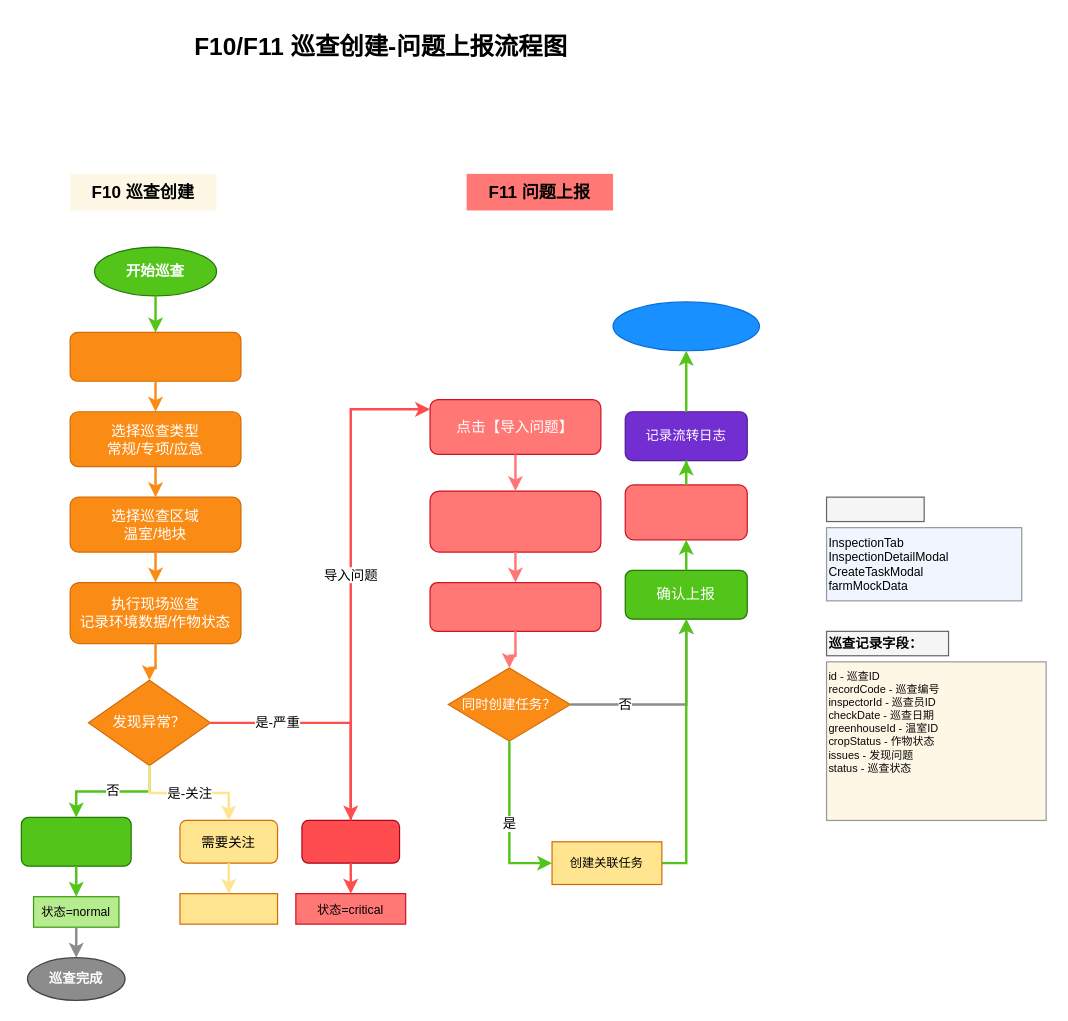
Some shapes in this 1068 by 1021 pixel diagram are drawn without their labels. Each missing label, with the box of its shape:
上传现场照片: (429, 581, 601, 631)
严重问题: (301, 819, 400, 863)
创建ProblemEntry 状态=待处理: (624, 484, 747, 540)
填写问题描述 问题类型/严重程度: (429, 490, 601, 552)
巡查正常 记录结果: (20, 816, 131, 866)
涉及组件：: (825, 496, 924, 522)
点击【新建巡查】: (69, 331, 241, 381)
状态=attention: (179, 892, 278, 924)
进入问题分派流程: (612, 301, 759, 351)
